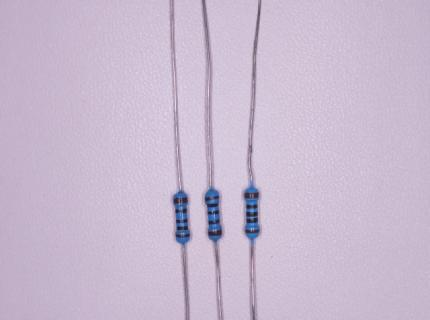Black band: (176, 218, 188, 224), (208, 219, 220, 225), (207, 202, 218, 208), (208, 209, 219, 215), (247, 211, 258, 217), (176, 225, 188, 230), (175, 209, 187, 214), (246, 204, 257, 209), (247, 218, 258, 223)
Brown band: (173, 197, 188, 204), (205, 195, 220, 202), (207, 229, 222, 236), (244, 192, 259, 198), (175, 232, 190, 238), (245, 228, 260, 233)
